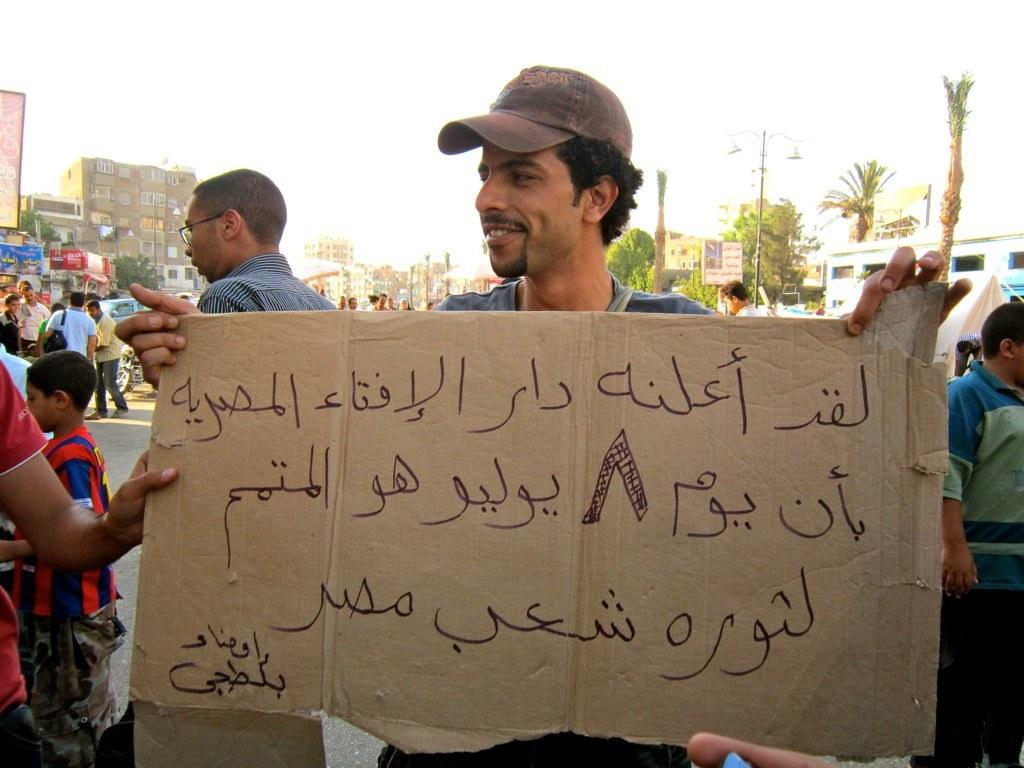Hat: (436, 63, 630, 159)
